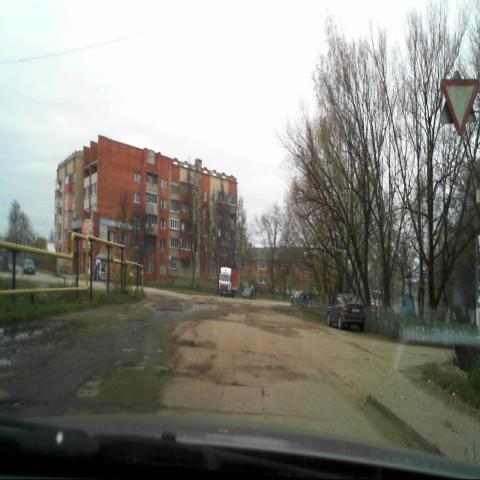2_4: (440, 77, 480, 135)
